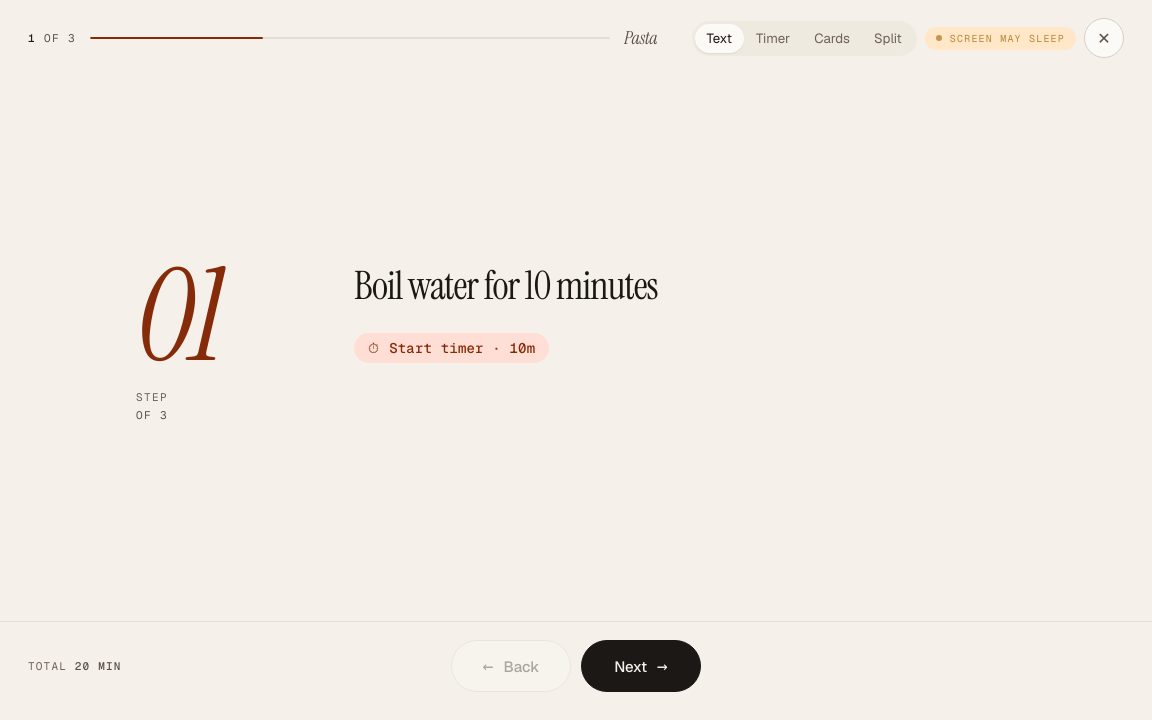
Test: CookingMode – navigation › advances to the next step with Next
The image size is (1152, 720).
Click the button "Next →" at (641, 666), box x1=581 y1=640 x2=701 y2=692
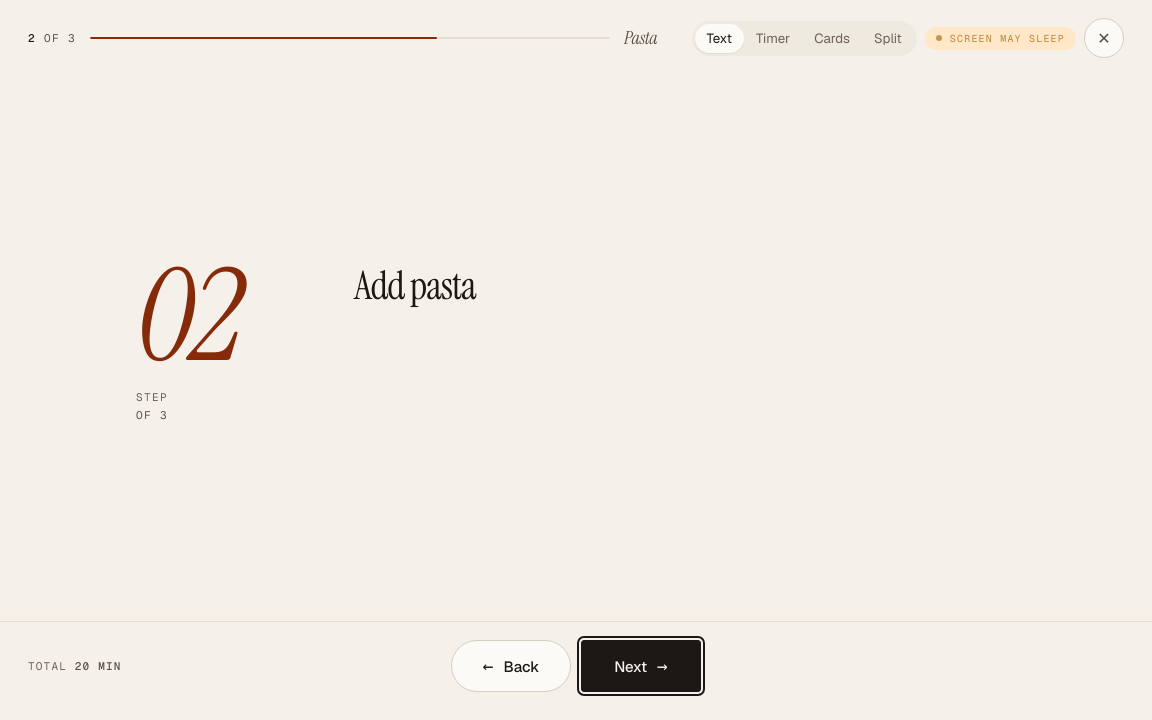
Expected: the text "Add pasta" is shown, x1=354 y1=260 x2=476 y2=311
